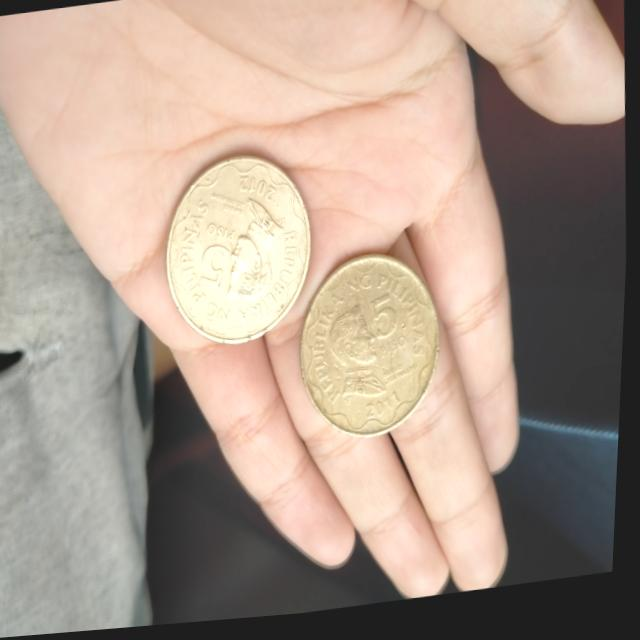5_Old_Front: (368, 284, 420, 369), (190, 224, 251, 295)
